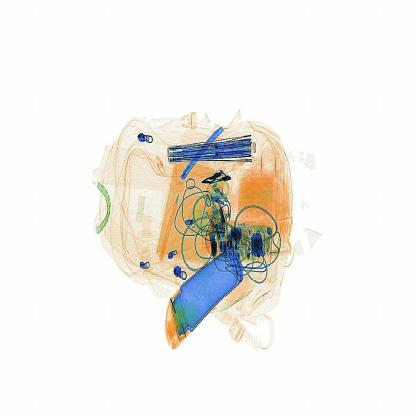pliers: (177, 113, 233, 188)
